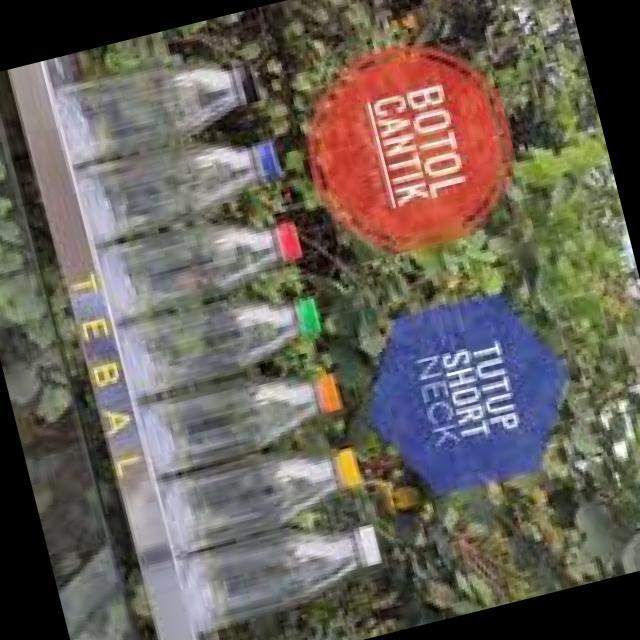good: (41, 29, 292, 181), (76, 182, 316, 338), (161, 501, 407, 640), (134, 431, 383, 567), (102, 272, 344, 405), (66, 117, 302, 250), (114, 351, 351, 483)
